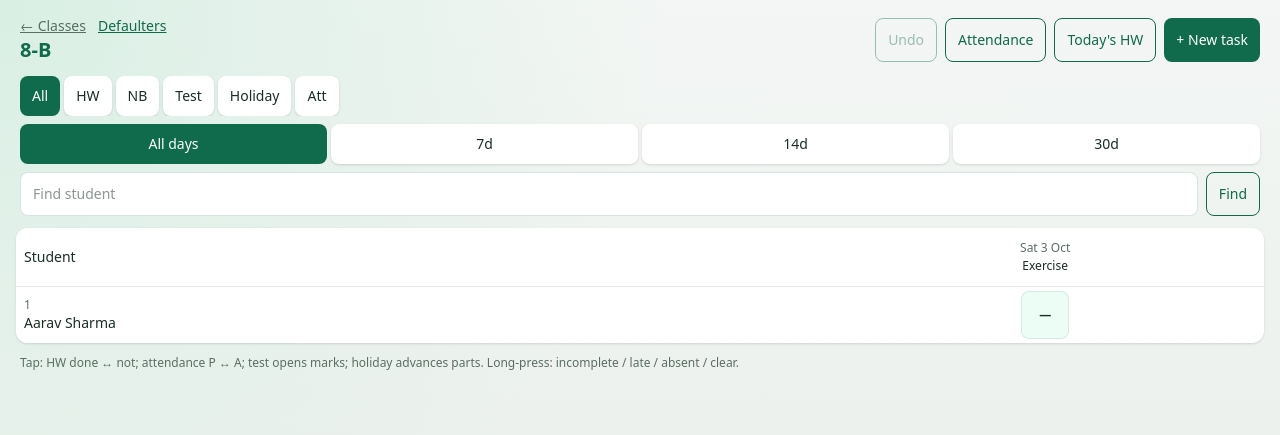
Test: TickGridPage status errors › shows the update error and refetches the grid
Expected: the text "Sat 3 Oct" is shown, [1020,239,1070,256]
What coordinates should you click on to do the following:
click the button named "Aarav Sharma Exercise"
I would click on:
 (1045, 315)
Its box is [1021,291,1069,339].
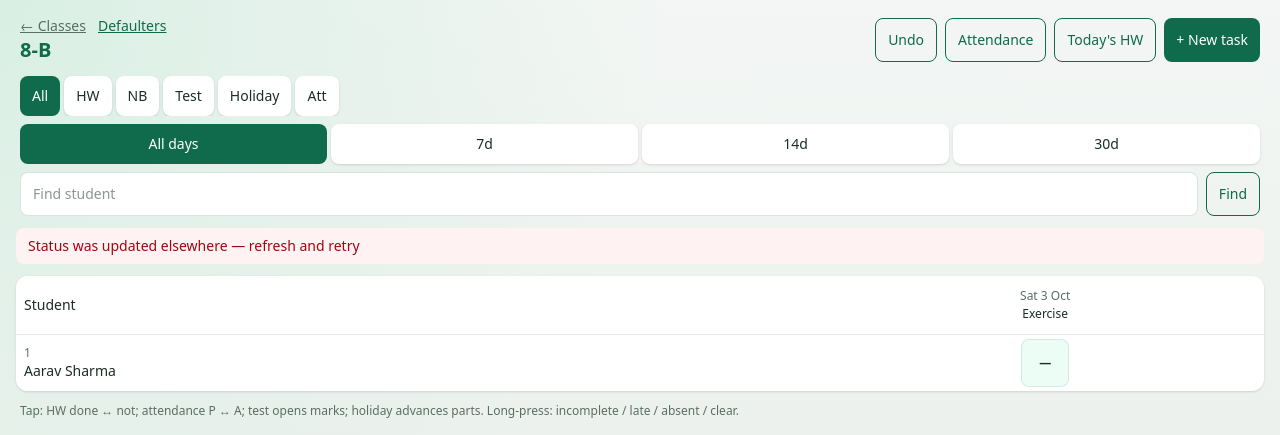
Result: the message shows "updated elsewhere" at [28,236,360,255]
